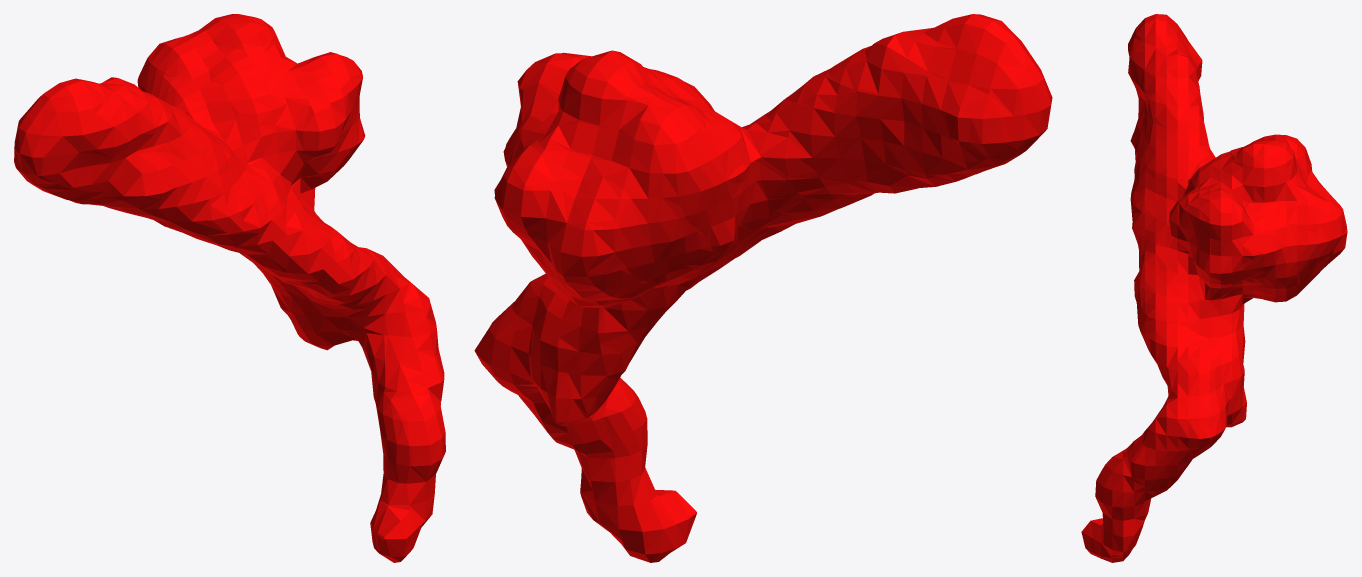
The model's file is cheZ_coarse.dae.
3 renders of one model, left to right at view 1: azimuth 30°, elevation 25°; view 2: azimuth 150°, elevation 25°; view 3: azimuth 270°, elevation 25°, orthographic. The views are drawn at different scales.
Parts seen in each view (by area): view 1: cheZ; view 2: cheZ; view 3: cheZ.
Boxes of the visible parts, x1,y1,x2,y2 form: cheZ: [14, 14, 445, 562]; cheZ: [474, 14, 1052, 562]; cheZ: [1081, 14, 1347, 562].
Bounding box in the file's own units: 95.11 × 111 × 62.27.
